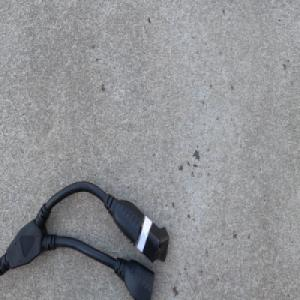Wire: (0, 179, 170, 300)
